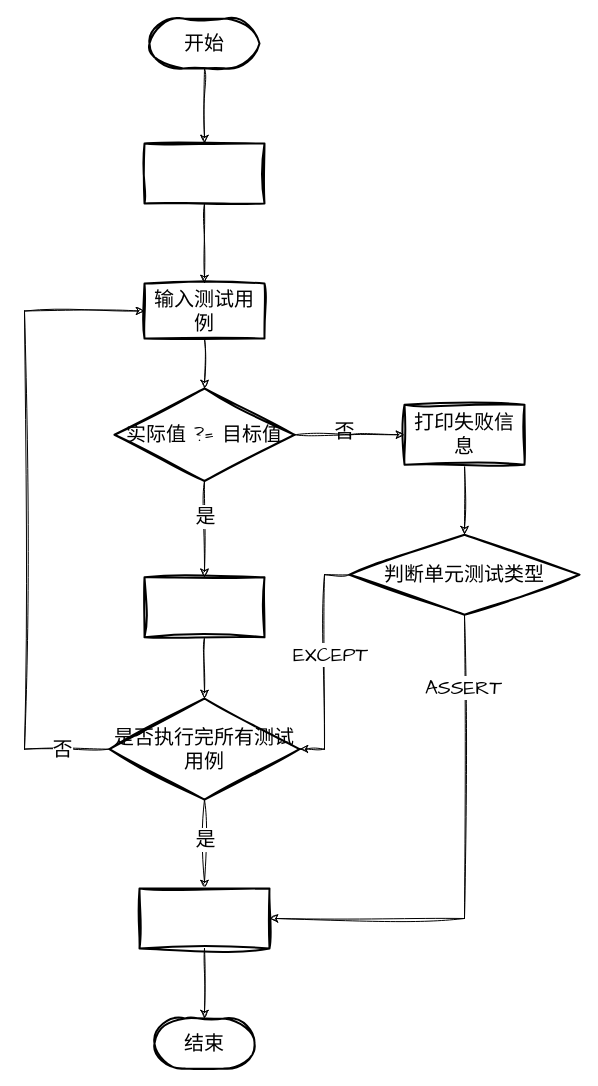
The diagram is 598 pixels wide and 1086 high, and some of its shapes have lost their labels. Each missing label, with the centre of its shape:
"单元（函数）测试" goes at pixel 204 173.
"打印成功信息" goes at pixel 204 607.
"输出成功测试用例的百分比" goes at pixel 204 918.
